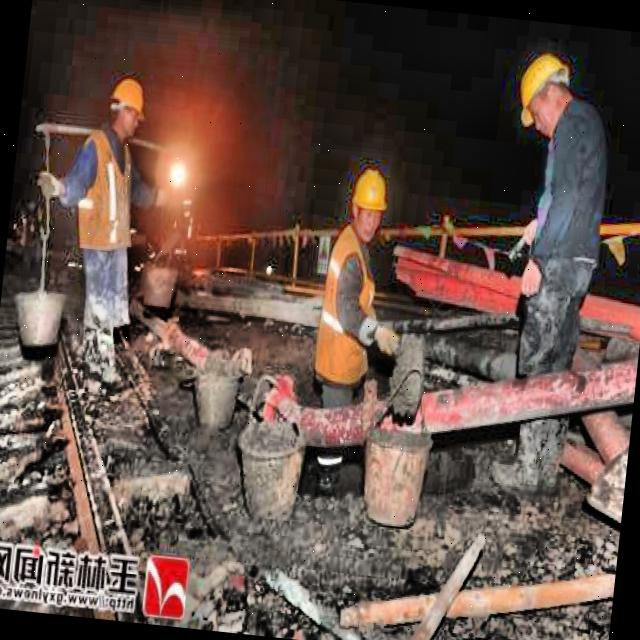helmet: (508, 40, 584, 140), (344, 160, 392, 247), (100, 69, 152, 146)
